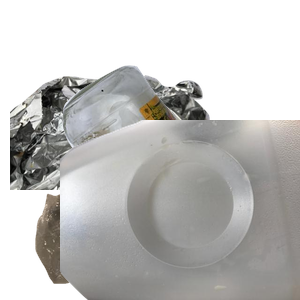glass: (60, 63, 300, 243)
metal: (10, 73, 212, 253)
plastic: (60, 120, 300, 300)
trash: (33, 145, 270, 300)
